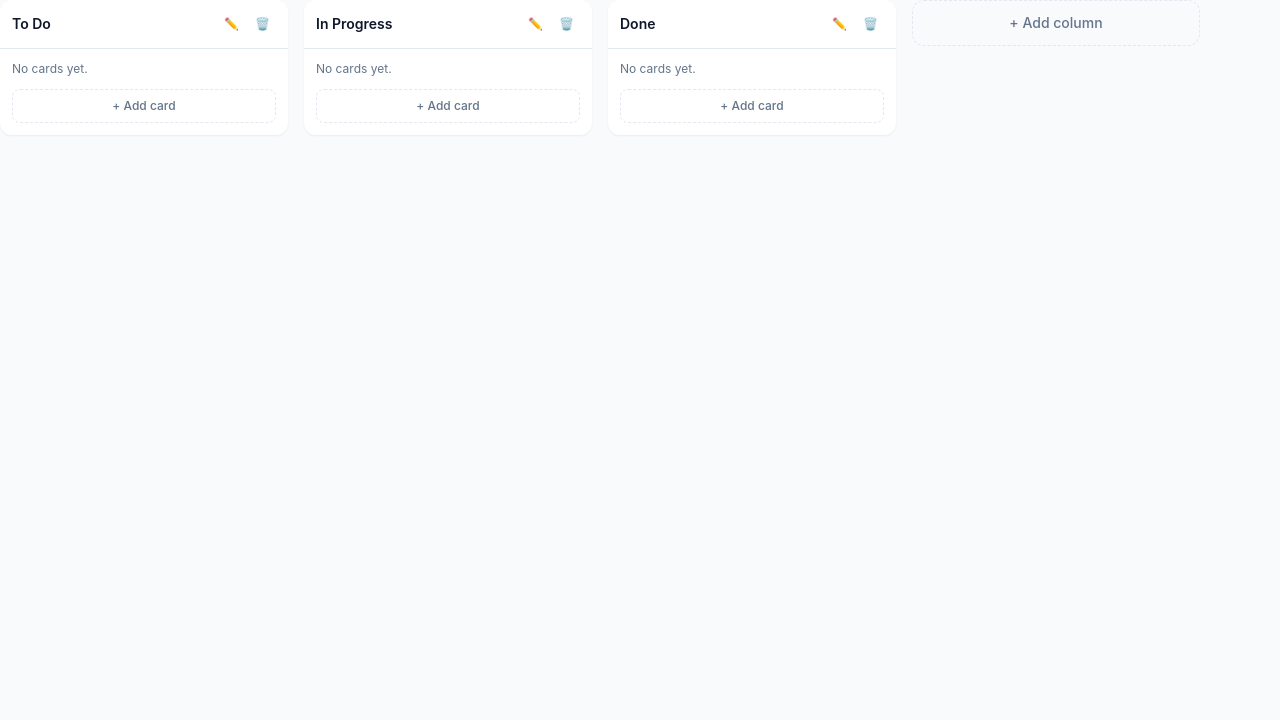
Test: BoardView › does not delete when the confirmation is cancelled
The width and height of the screenshot is (1280, 720).
Expected: the heading "To Do" is shown, [12,15,51,32]
What coordinates should you click on to do the following:
click the button named "Delete Done"
I would click on:
 (870, 24)
Its box is [857,12,884,36].
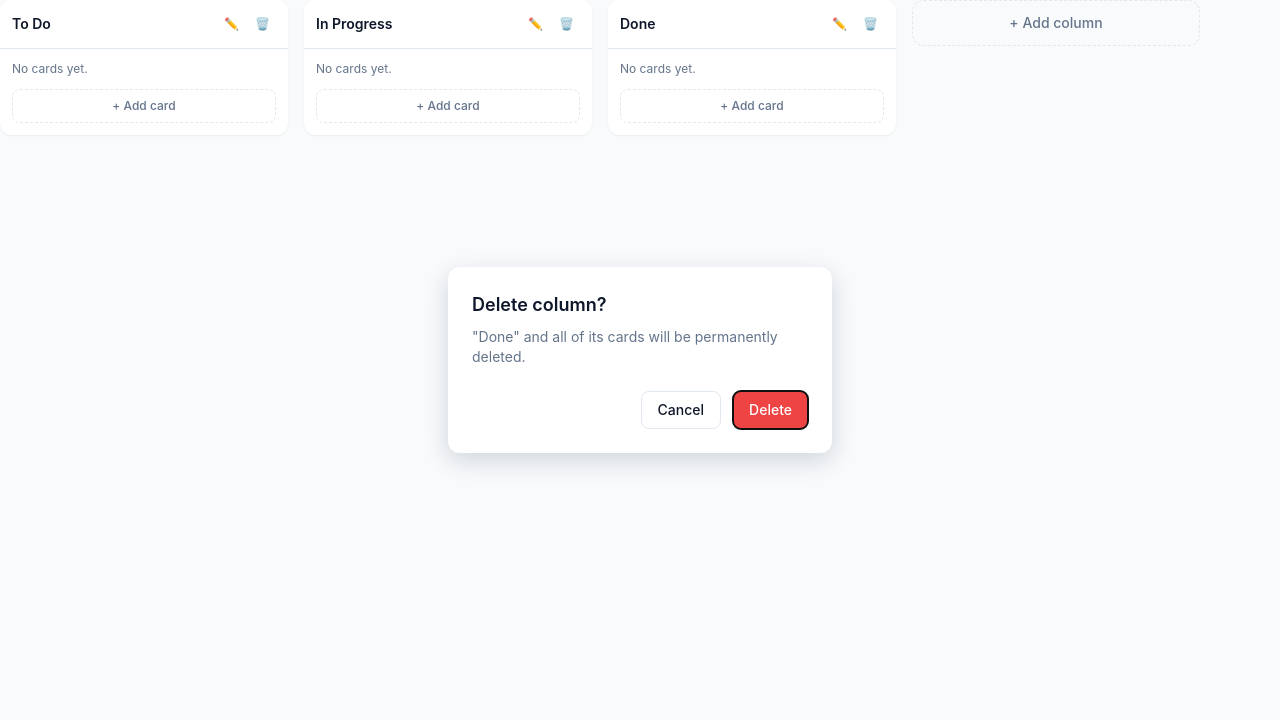
What coordinates should you click on to do the following:
click the button "Cancel"
I would click on:
 (681, 410)
Its box is [641,391,721,429].
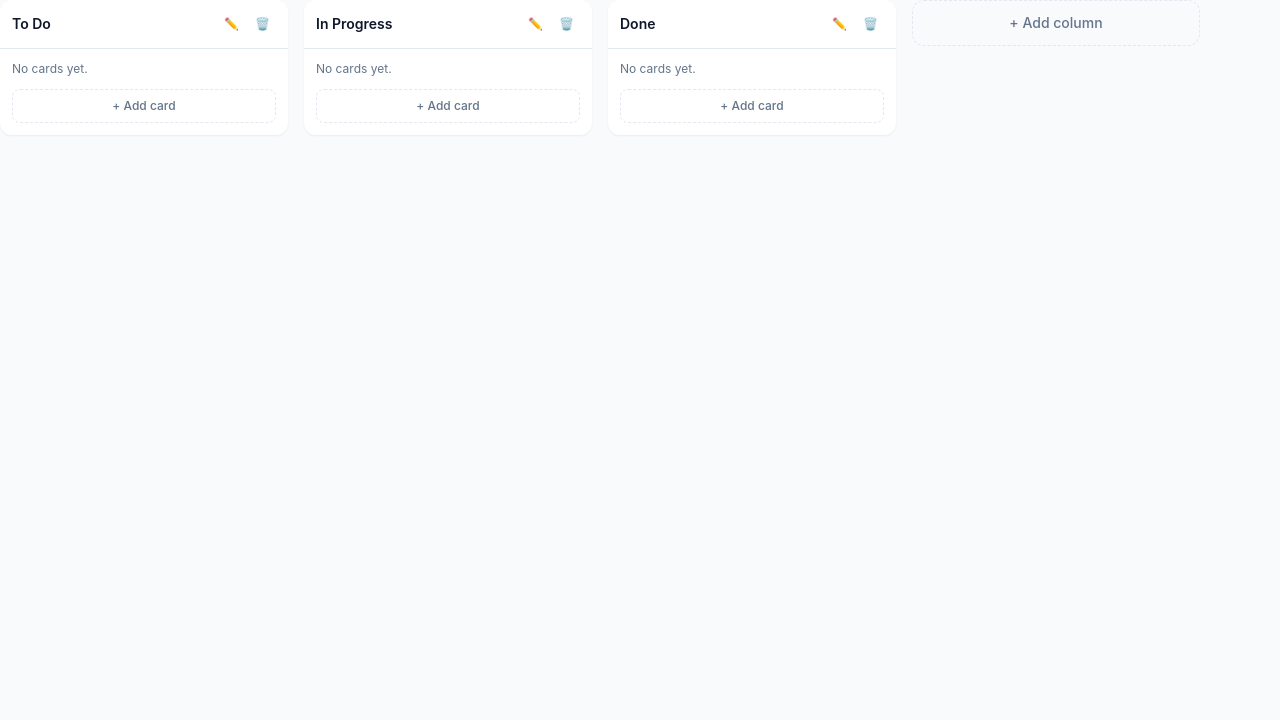
Now the dialog is gone
